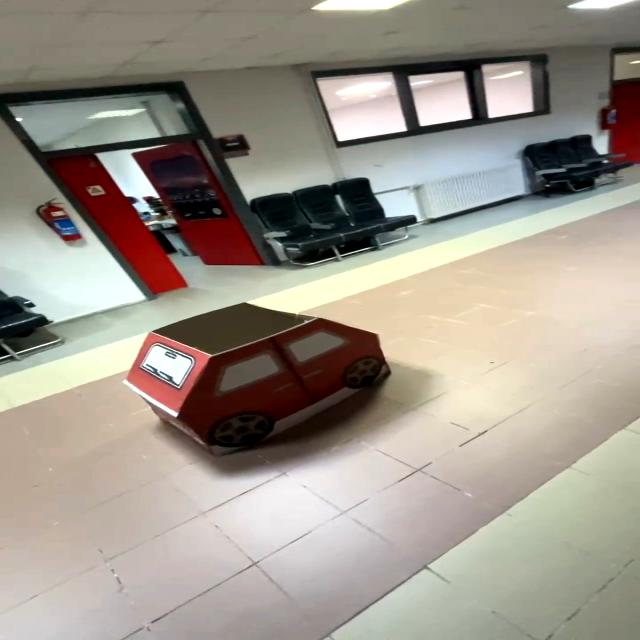red_car: (116, 279, 427, 459)
